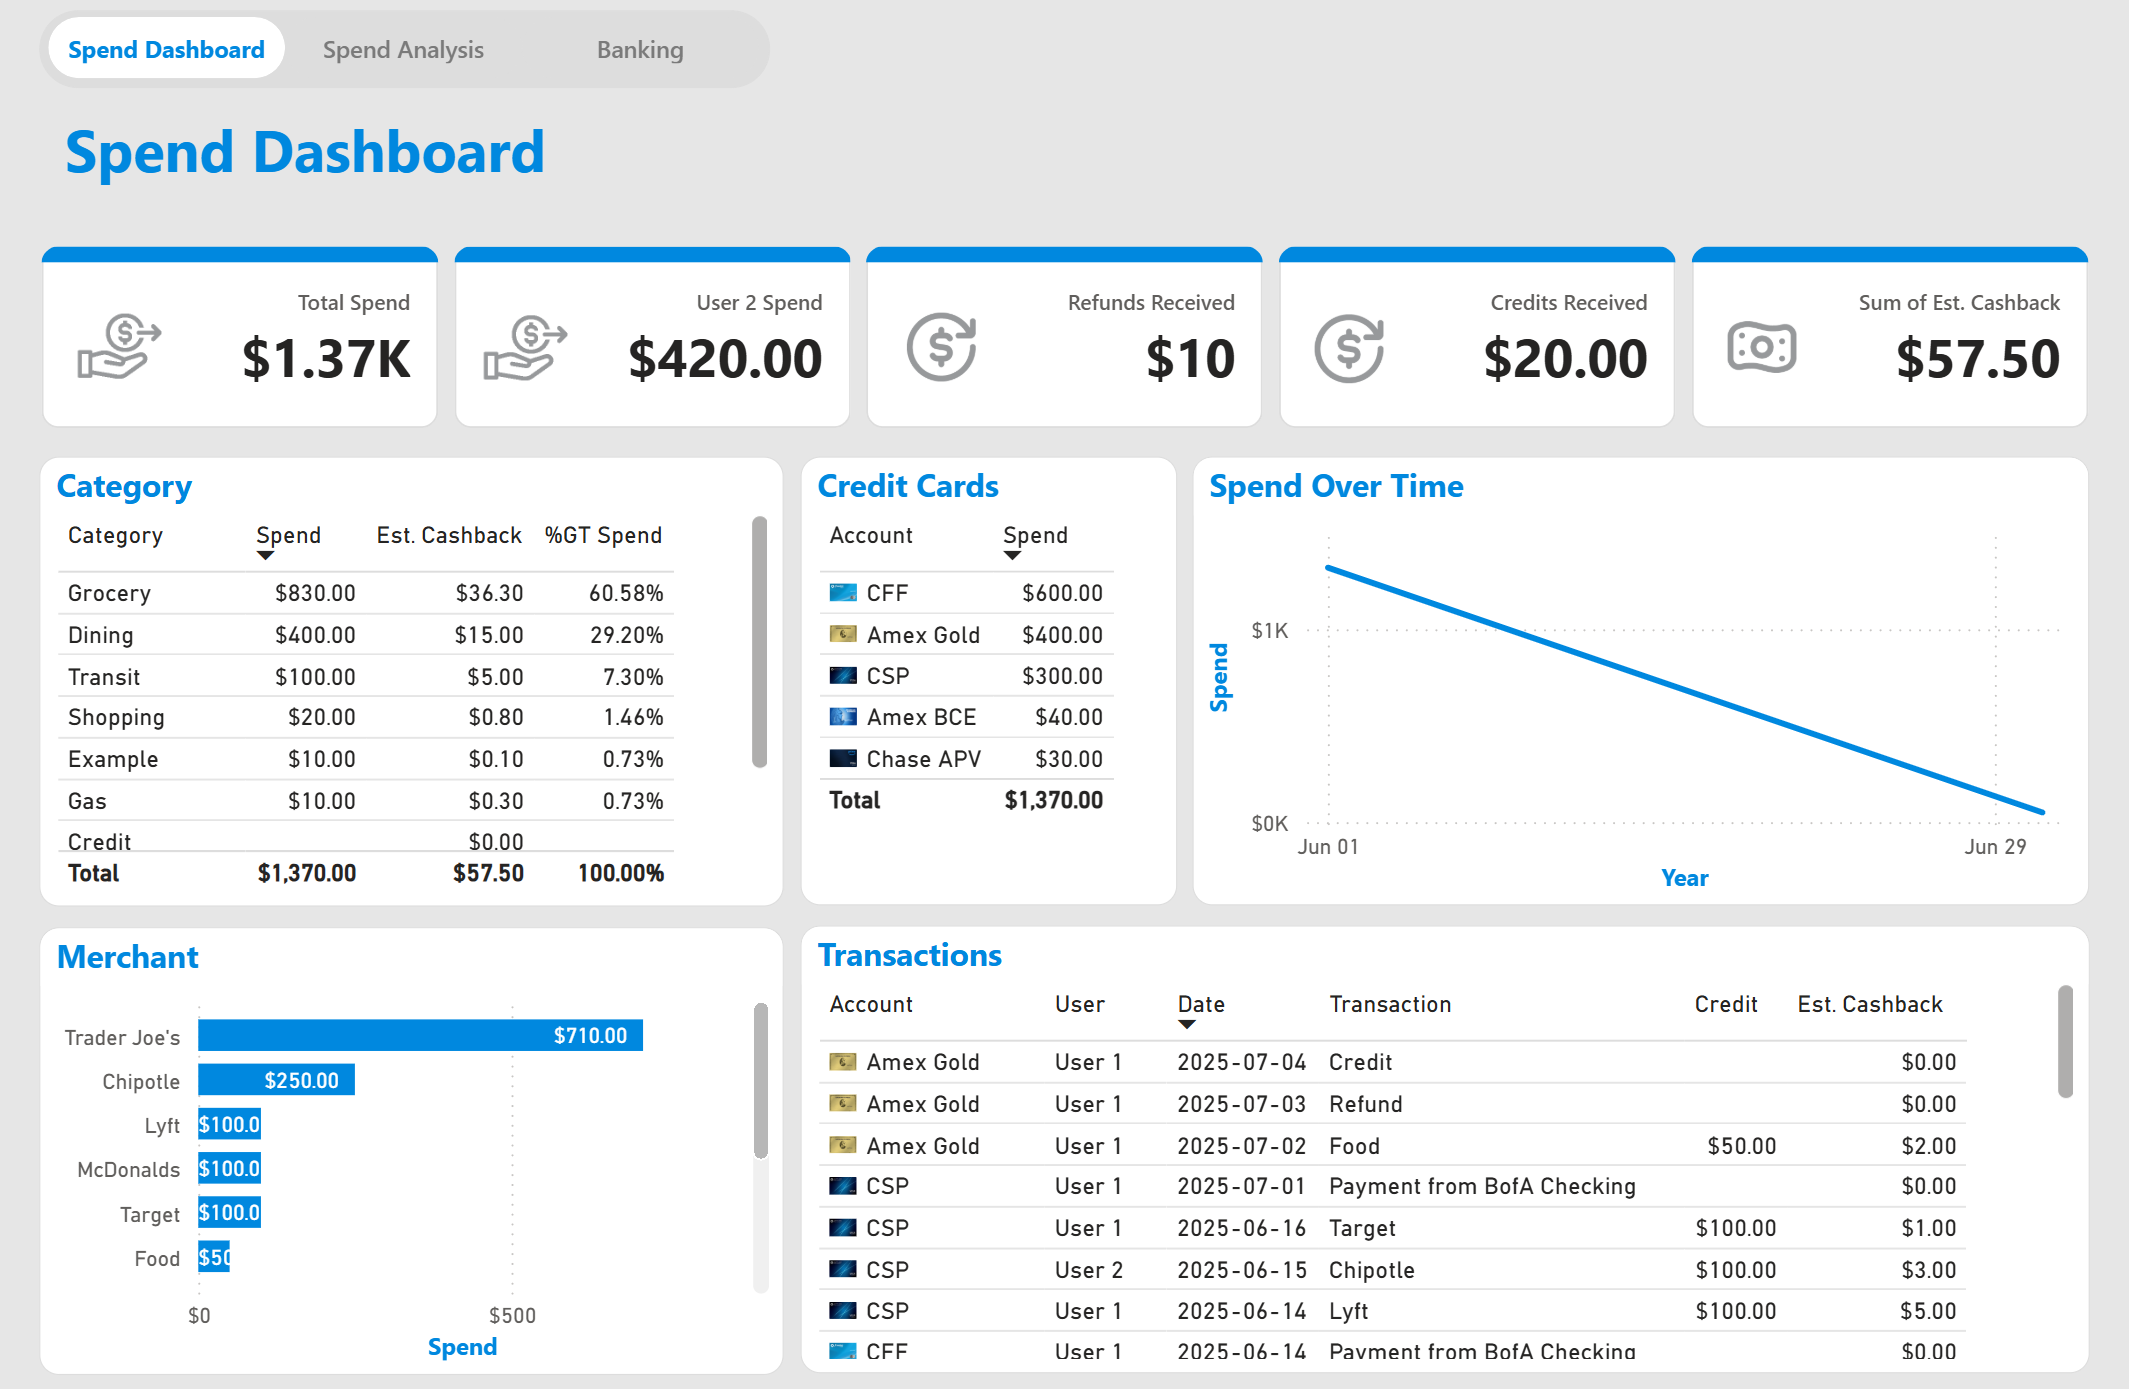

What the dashboard file says about the page in this screenshot:
{"tool":"powerbi","page":{"name":"Spend Dashboard","canvas":[1280,720],"ordinal":0},"visuals":[{"type":"shape","box":[0,0,60.8,719.8],"z":0,"group":"g1"},{"type":"textbox","title":"Spend Dashboard","box":[99.3,64.2,362.7,47],"z":0},{"type":"image","title":"Image - Bank","box":[15.4,183.8,30,30],"z":1000,"group":"g1"},{"type":"lineChart","title":"Spend Over Time","fields":{"Category":["Calendar.Date.Variation.Date Hierarchy.Year","Calendar.Date.Variation.Date Hierarchy.Month"],"Y":["Sum(COMBINED Credit Cards.Credit)"]},"box":[675.7,239.6,454,227.7],"z":1000},{"type":"image","title":"Image - Analysis","box":[15.4,132.5,30,30],"z":2000,"group":"g1"},{"type":"tableEx","title":"Credit Cards","fields":{"Values":["COMBINED Credit Cards.Account","Sum(COMBINED Credit Cards.Credit)"]},"box":[476.5,239.6,190.6,227.7],"z":2000},{"type":"image","title":"Image - Home","box":[15.4,78.4,30,30],"z":3000,"group":"g1"},{"type":"tableEx","title":"Transactions","fields":{"Values":["COMBINED Credit Cards.Account","COMBINED Credit Cards.User","COMBINED Credit Cards.Date","COMBINED Credit Cards.Transaction","Sum(COMBINED Credit Cards.Credit)","Sum(COMBINED Credit Cards.Est. Cashback)"]},"box":[476.5,477.2,653.2,227],"z":3000},{"type":"barChart","title":"Merchant","fields":{"Category":["COMBINED Credit Cards.Transaction"],"Y":["Sum(COMBINED Credit Cards.Credit)"]},"box":[91.5,477.4,377.1,227],"z":4000},{"type":"tableEx","title":"Category","fields":{"Values":["COMBINED Credit Cards.Category","Sum(COMBINED Credit Cards.Credit)","Sum(COMBINED Credit Cards.Est. Cashback)","Divide(COMBINED Credit Cards.Spend, ScopedEval(COMBINED Credit Cards.Spend, []))"]},"box":[91.5,239.5,377.1,227.7],"z":6000},{"type":"cardVisual","title":"Card - Spend","fields":{"Data":["Sum(COMBINED Credit Cards.Credit)","COMBINED Credit Cards.Spend - Mom","COMBINED Credit Cards.Refunds Received","COMBINED Credit Cards.Credits/Refunds Received","Sum(COMBINED Credit Cards.Est. Cashback)"]},"box":[91.2,132.8,1038,92.4],"z":7000},{"type":"pageNavigator","box":[91.5,13.2,370.5,39.5],"z":8000},{"type":"group","id":"g1","title":"Nav - Left Icons","box":[0,0,60.8,719.8],"z":9000},{"type":"actionButton","title":"Button - Dash - Open","box":[1168,67.4,40.3,40.3],"z":11000},{"type":"image","title":"Image - Total Spend","box":[104.4,156.3,54.8,54.8],"z":12000},{"type":"image","title":"Image - User 2 Spend","box":[310.3,157,54.8,54.8],"z":13000},{"type":"image","title":"Image - Credits","box":[525.5,161.5,45,45],"z":14000},{"type":"image","title":"Image - Refunds","box":[732.7,162.2,45,45],"z":15000},{"type":"image","title":"Image - Cashback","box":[941.8,161.5,45.7,45],"z":16000}]}

Visuals, with their boxes on the page's 1280x720 design canvas (x1, y1, x2, y2). These are canvas units, not pixel positions in the 2129x1389 screenshot, which may show the page scaled, cropped or inside an application window:
shape: left=0, top=0, right=61, bottom=720
"Spend Dashboard" textbox: left=99, top=64, right=462, bottom=111
"Image - Bank" image: left=15, top=184, right=45, bottom=214
"Spend Over Time" lineChart: left=676, top=240, right=1130, bottom=467
"Image - Analysis" image: left=15, top=132, right=45, bottom=162
"Credit Cards" tableEx: left=476, top=240, right=667, bottom=467
"Image - Home" image: left=15, top=78, right=45, bottom=108
"Transactions" tableEx: left=476, top=477, right=1130, bottom=704
"Merchant" barChart: left=92, top=477, right=469, bottom=704
"Category" tableEx: left=92, top=240, right=469, bottom=467
"Card - Spend" cardVisual: left=91, top=133, right=1129, bottom=225
pageNavigator: left=92, top=13, right=462, bottom=53
"Nav - Left Icons" group: left=0, top=0, right=61, bottom=720
"Button - Dash - Open" actionButton: left=1168, top=67, right=1208, bottom=108
"Image - Total Spend" image: left=104, top=156, right=159, bottom=211
"Image - User 2 Spend" image: left=310, top=157, right=365, bottom=212
"Image - Credits" image: left=526, top=162, right=570, bottom=206
"Image - Refunds" image: left=733, top=162, right=778, bottom=207
"Image - Cashback" image: left=942, top=162, right=988, bottom=206
